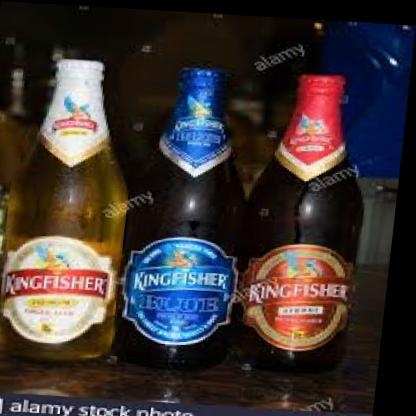trash: (0, 59, 126, 359), (121, 67, 243, 364), (241, 74, 362, 365)
